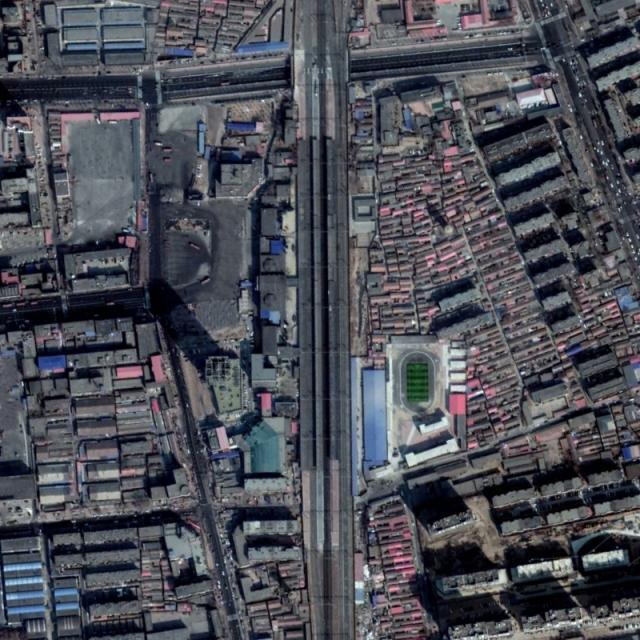vehicle: (190, 242, 199, 250), (201, 278, 210, 285), (16, 302, 26, 306), (30, 301, 38, 306), (150, 174, 154, 183), (96, 118, 101, 125), (155, 142, 163, 146), (106, 302, 114, 306), (164, 149, 174, 152), (2, 304, 12, 307), (164, 158, 171, 162), (109, 121, 118, 123)
